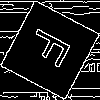F: (25, 25, 81, 75)
